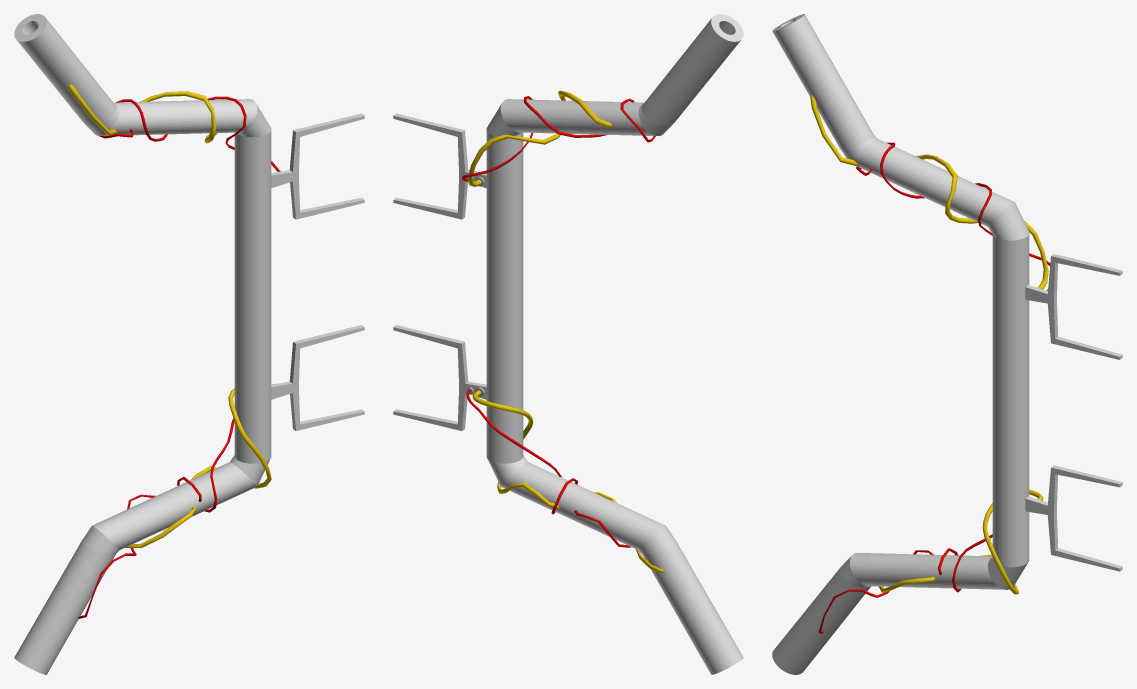
Rendered from leftbar.fbx.
3 renders of one model, left to right at view 1: azimuth 30°, elevation 25°; view 2: azimuth 150°, elevation 25°; view 3: azimuth 330°, elevation 25°, orthographic.
Parts seen in each view (by area): view 1: pPipe2, pCube1, pCube3, pCylinder1, pCylinder4, pCylinder2, pCylinder3; view 2: pPipe2, pCube1, pCube3, pCylinder4, pCylinder1, pCylinder3, pCylinder2; view 3: pPipe2, pCube1, pCube3, pCylinder4, pCylinder1, pCylinder2, pCylinder3.
Boxes of the visible parts, <box> form: pPipe2: <box>14,14,271,674</box>; pCube1: <box>271,325,364,430</box>; pCube3: <box>271,113,364,219</box>; pCylinder1: <box>125,388,271,547</box>; pCylinder4: <box>67,84,217,143</box>; pCylinder2: <box>78,418,234,618</box>; pCylinder3: <box>99,96,280,171</box>; pPipe2: <box>486,14,743,674</box>; pCube1: <box>393,325,486,430</box>; pCube3: <box>393,113,486,219</box>; pCylinder4: <box>467,90,611,186</box>; pCylinder1: <box>472,390,663,573</box>; pCylinder3: <box>462,96,655,181</box>; pCylinder2: <box>466,389,630,547</box>; pPipe2: <box>772,14,1029,674</box>; pCube1: <box>1025,465,1122,571</box>; pCube3: <box>1025,254,1122,359</box>; pCylinder4: <box>810,95,1048,289</box>; pCylinder1: <box>878,489,1043,594</box>; pCylinder2: <box>818,534,992,633</box>; pCylinder3: <box>856,142,1050,290</box>.
Bounding box in the file's own units: 16.2 × 29.33 × 2.88.
